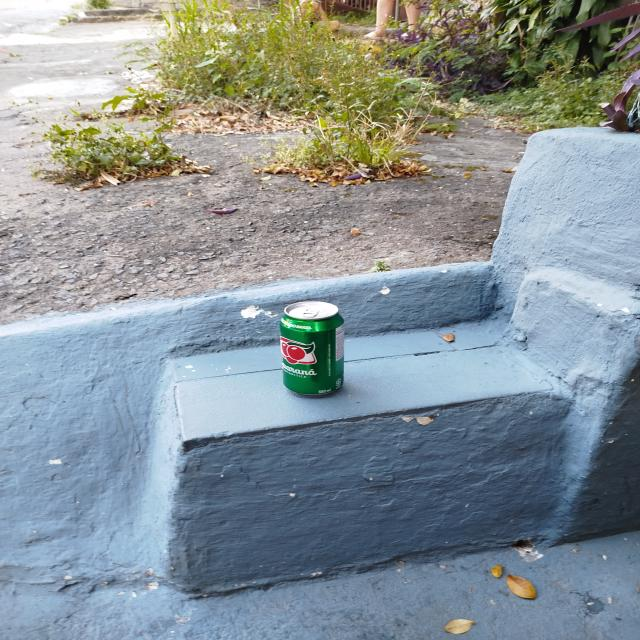Guarana: (279, 302, 345, 394)
